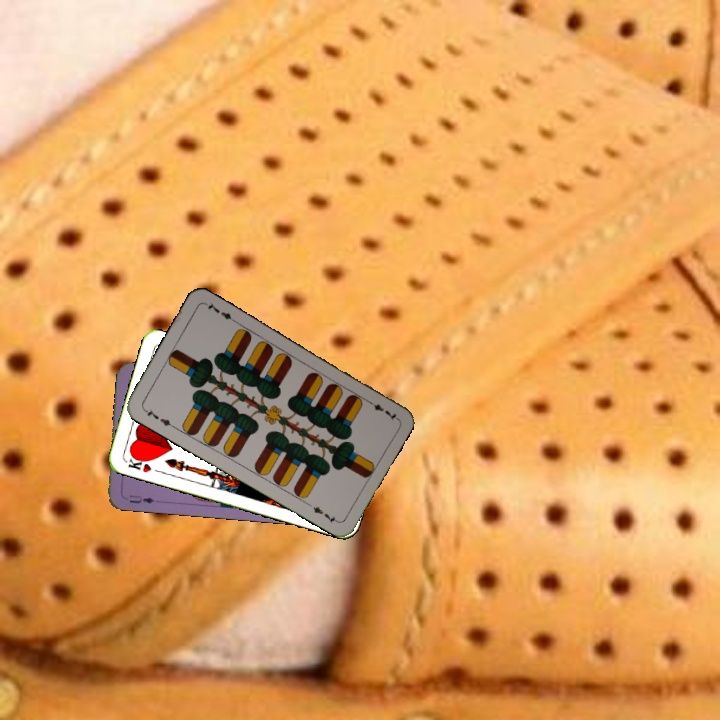E7: (363, 396, 399, 423), (140, 405, 177, 430)
EU: (125, 491, 157, 506)
HK: (122, 451, 154, 475)
